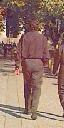person: (9, 19, 51, 117)
